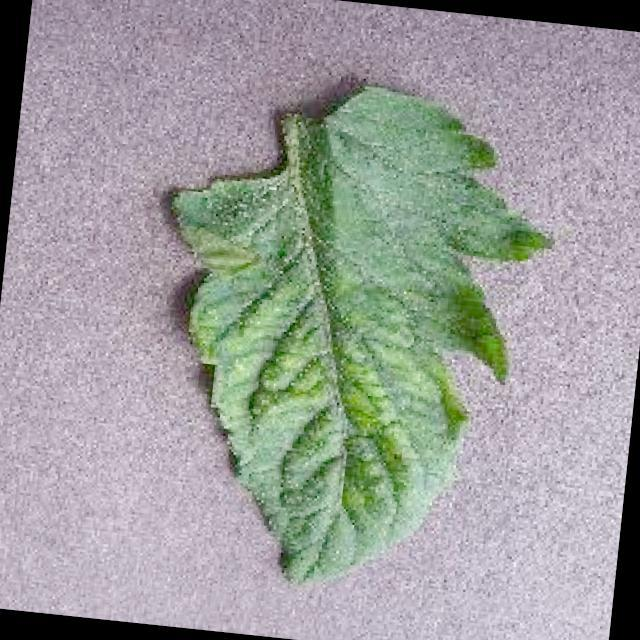Tomato mosaic virus leaf: (126, 60, 572, 612)
